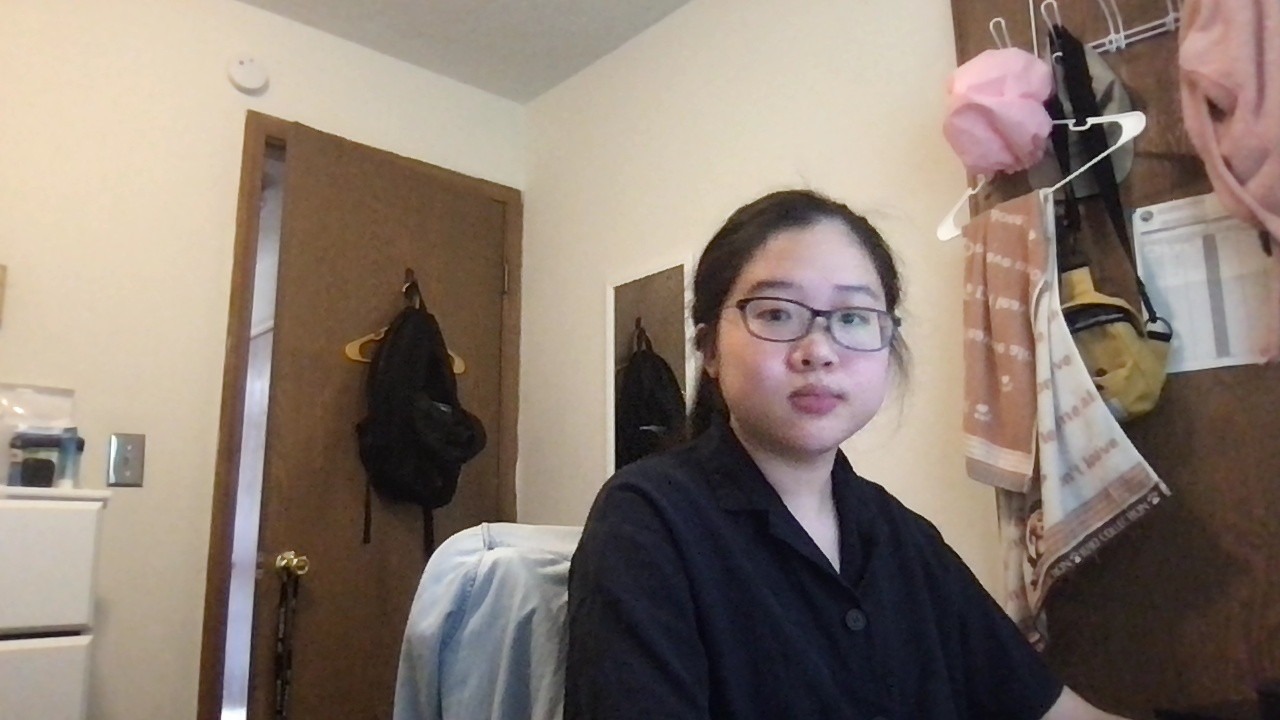NoMask: (723, 335, 900, 439)
